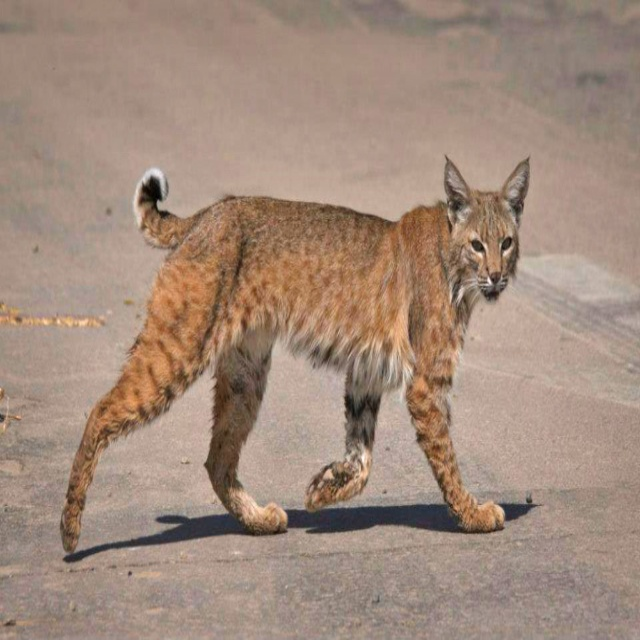Lynx: (57, 151, 529, 552)
